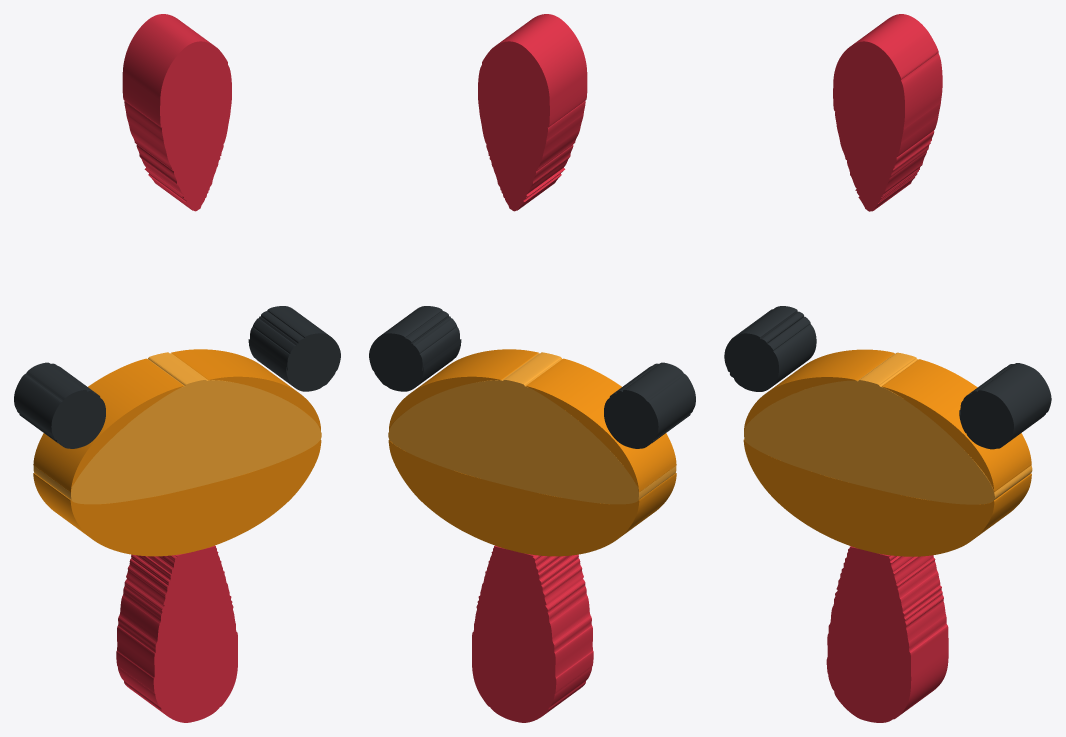
Rendered from Galinha.dae.
3 renders of one model, left to right at view 1: azimuth 30°, elevation 25°; view 2: azimuth 150°, elevation 25°; view 3: azimuth 330°, elevation 25°, orthographic.
Visible parts, largest first — view 1: node_5, node_7, node_1, node_3, node_2, node_0, node_10, node_12, node_14, node_13, node_15, node_8 (+4 smaller); view 2: node_5, node_7, node_1, node_3, node_2, node_0, node_10, node_12, node_14, node_13, node_15, node_8 (+4 smaller); view 3: node_5, node_7, node_1, node_3, node_2, node_0, node_8, node_12, node_14, node_13, node_15, node_10 (+4 smaller).
Part boxes in pixels (left/top/right/bottom): node_5: left=71, top=380, right=321, bottom=504; node_7: left=70, top=439, right=321, bottom=556; node_1: left=153, top=546, right=237, bottom=722; node_3: left=160, top=41, right=231, bottom=211; node_2: left=122, top=14, right=212, bottom=209; node_0: left=116, top=545, right=230, bottom=713; node_10: left=33, top=358, right=183, bottom=492; node_12: left=14, top=362, right=96, bottom=445; node_14: left=248, top=306, right=328, bottom=386; node_13: left=51, top=390, right=105, bottom=448; node_15: left=286, top=333, right=340, bottom=391; node_8: left=171, top=349, right=320, bottom=429; node_5: left=388, top=380, right=638, bottom=504; node_7: left=388, top=439, right=639, bottom=556; node_1: left=472, top=546, right=556, bottom=722; node_3: left=478, top=41, right=549, bottom=211; node_2: left=497, top=14, right=587, bottom=209; node_0: left=479, top=545, right=593, bottom=713; node_10: left=526, top=358, right=676, bottom=492; node_12: left=613, top=362, right=695, bottom=445; node_14: left=381, top=306, right=461, bottom=386; node_13: left=604, top=390, right=658, bottom=448; node_15: left=369, top=333, right=423, bottom=391; node_8: left=389, top=349, right=538, bottom=429; node_5: left=744, top=380, right=994, bottom=504; node_7: left=743, top=440, right=994, bottom=556; node_1: left=826, top=547, right=911, bottom=722; node_3: left=833, top=41, right=904, bottom=211; node_2: left=853, top=14, right=942, bottom=210; node_0: left=849, top=546, right=948, bottom=716; node_8: left=882, top=359, right=1031, bottom=492; node_12: left=734, top=306, right=816, bottom=386; node_14: left=959, top=363, right=1051, bottom=444; node_13: left=724, top=333, right=778, bottom=391; node_15: left=959, top=390, right=1013, bottom=449; node_10: left=768, top=349, right=894, bottom=391.
Size of the model in its own units: 44.6 by 99.99 by 10.
